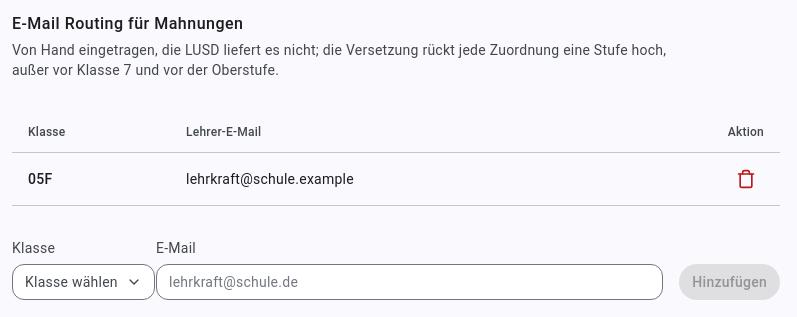
Klassenleitungen: Löschen › lädt die Liste auch nach einem Fehler neu
Click the button named "Zuordnung für 05F löschen" at (746, 178), box top-left (728, 160), bottom-right (764, 196)
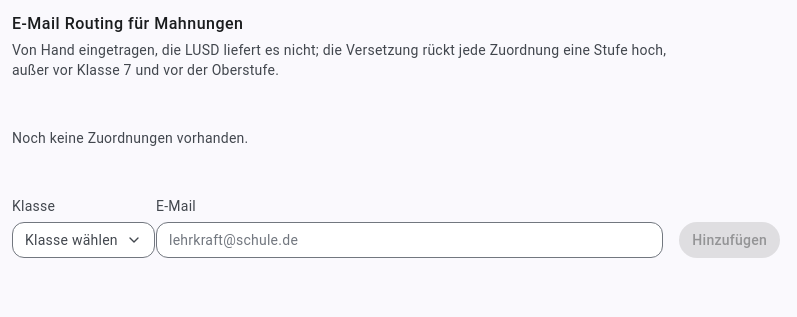
Expected: the text "lehrkraft@schule.example" is gone
